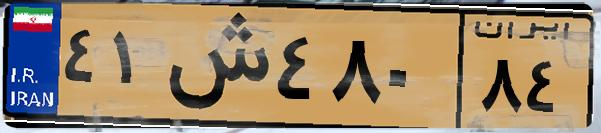0: (385, 28, 445, 110)
1: (110, 28, 158, 98)
4: (270, 28, 330, 110), (57, 26, 110, 100), (525, 38, 570, 115)
8: (330, 28, 385, 110), (475, 38, 525, 113)
ش: (158, 12, 270, 120)
